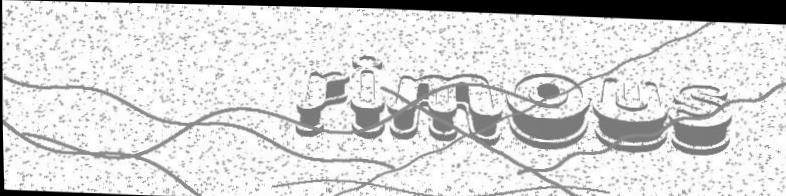i: (345, 47, 390, 138)
m: (385, 68, 503, 142)
o: (501, 68, 595, 152)
r: (296, 58, 349, 140)
s: (667, 77, 739, 157)
u: (590, 69, 669, 154)
